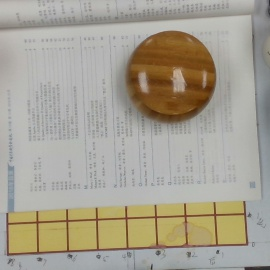chess: (127, 32, 213, 122)
